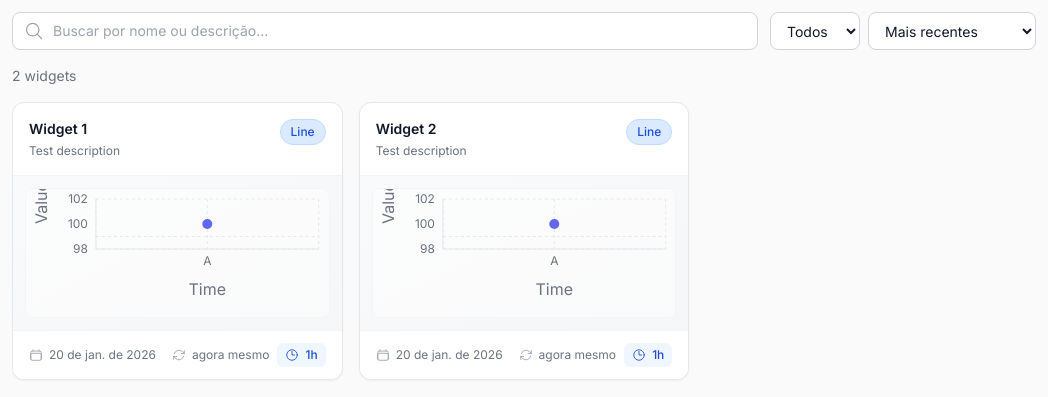
Test: WidgetList › Search Functionality › should clear search when clear button is clicked
Type "Widget 1" into the field with placeholder "Buscar por nome ou descrição..." at (385, 31), box [12,12,758,50]
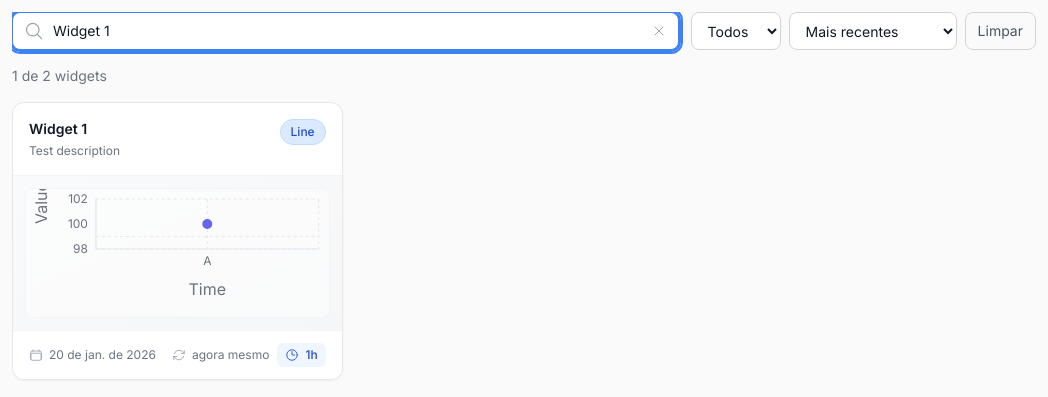
Check: the heading "Widget 2" is gone
Click the button named "Limpar busca" at (659, 31), box [651,23,667,39]
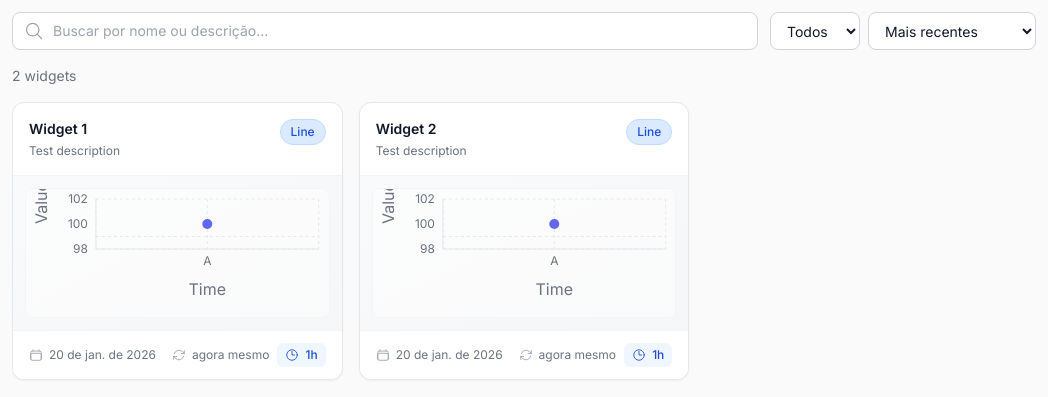
Check: the heading "Widget 1" is shown, box [29,120,87,137]
Check: the heading "Widget 2" is shown, box [376,120,437,137]
